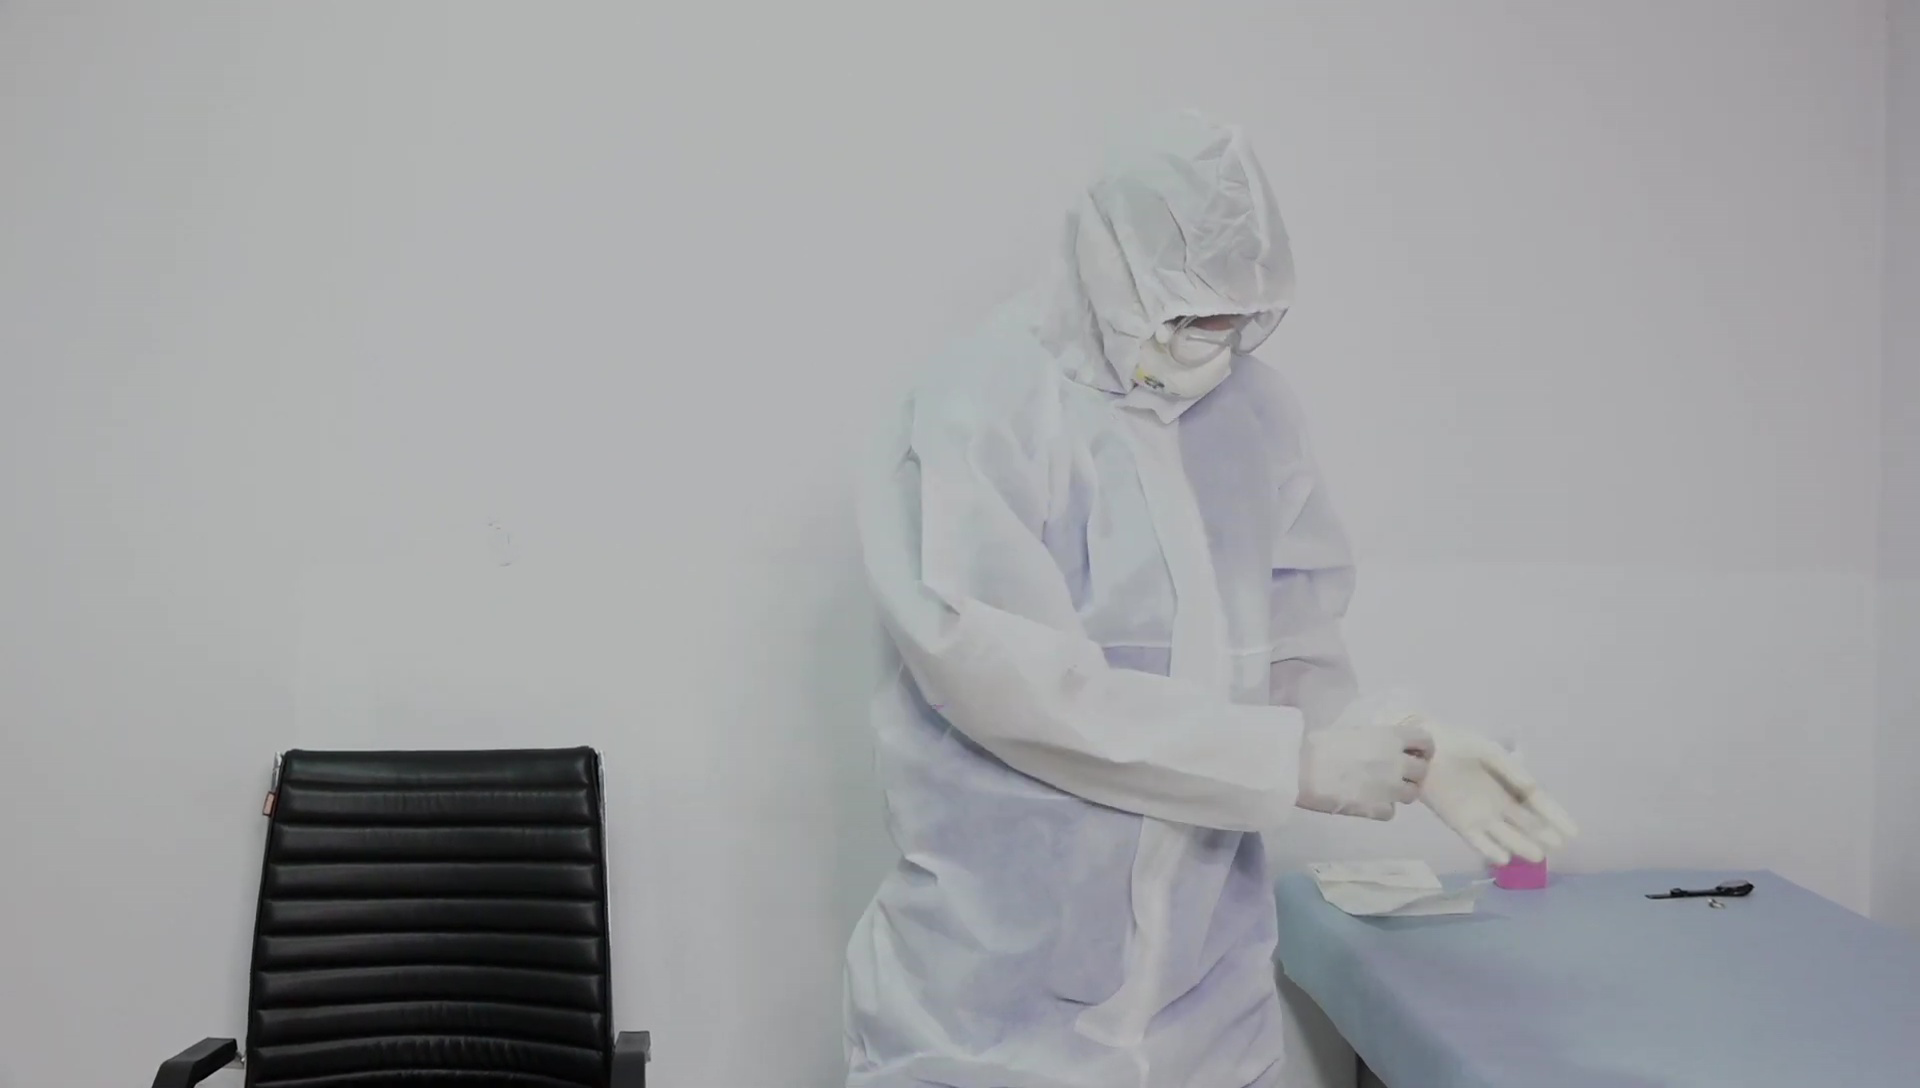Coverall: (838, 108, 1357, 1086)
Gloves: (1425, 733, 1584, 869), (1297, 713, 1432, 824)
Goggles: (1153, 301, 1289, 369)
with_mask: (1133, 327, 1235, 403)
